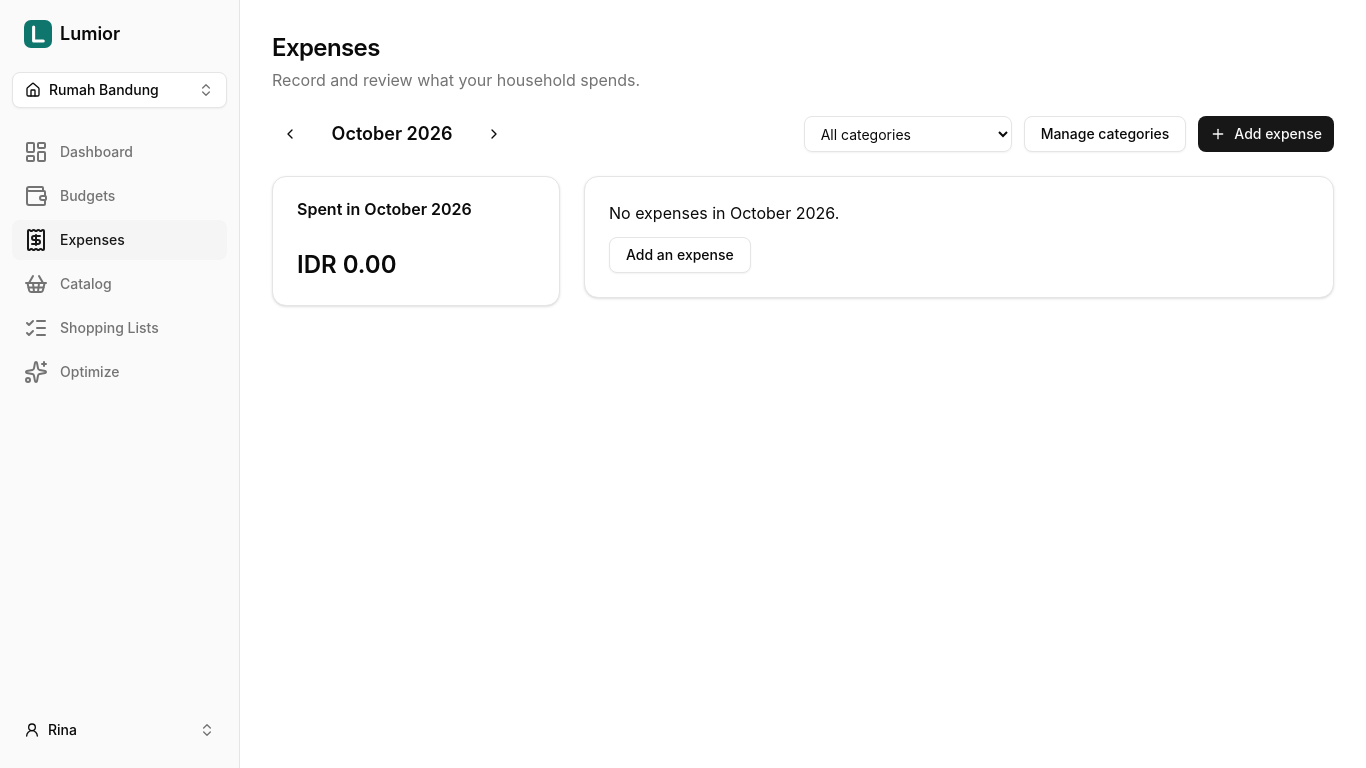
Scenario: adding an expense › a category archived meanwhile is reported on its field and the values are kept
This screenshot has width=1366, height=768.
Click the button "Add expense" at coordinates (1266, 134), box [1198,116,1334,152]
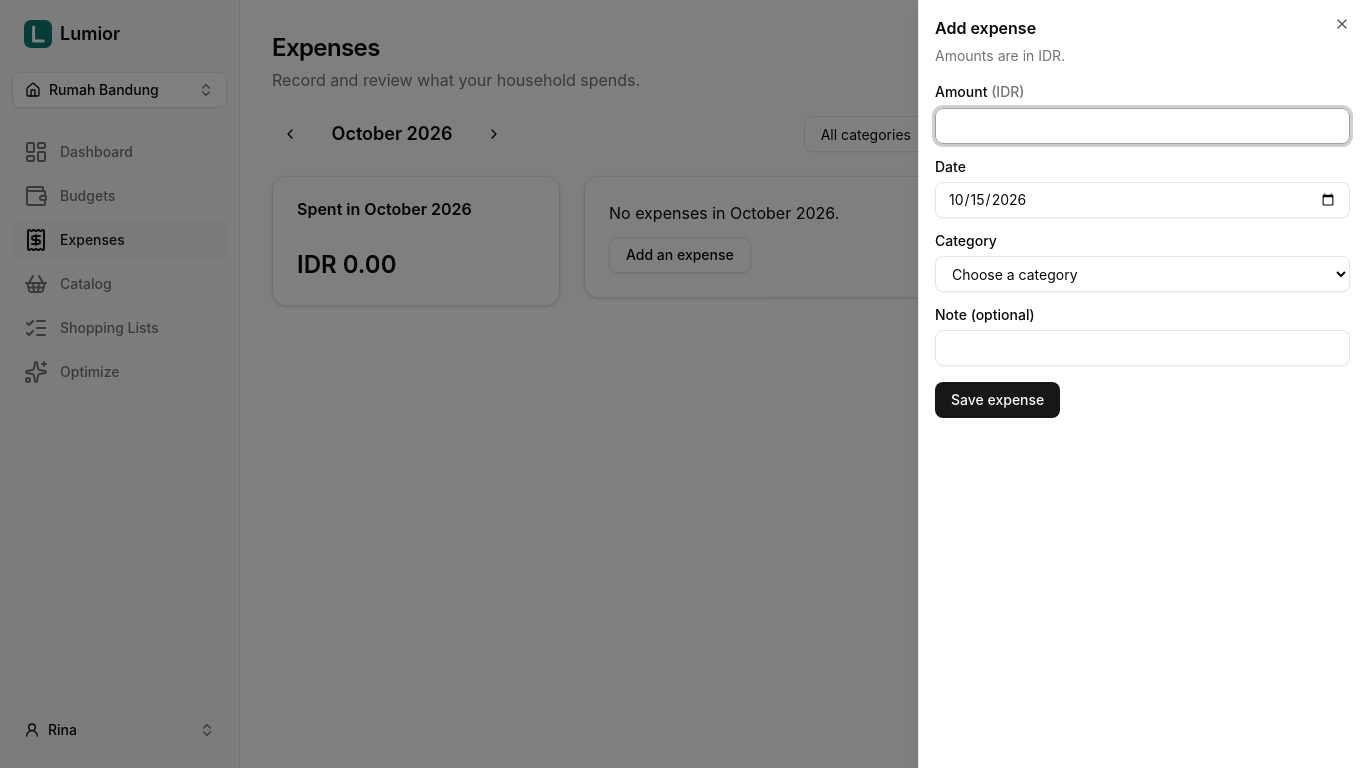
Type "30000" into the field labelled "Amount (IDR)" at coordinates (1142, 126), box [935,108,1350,144]
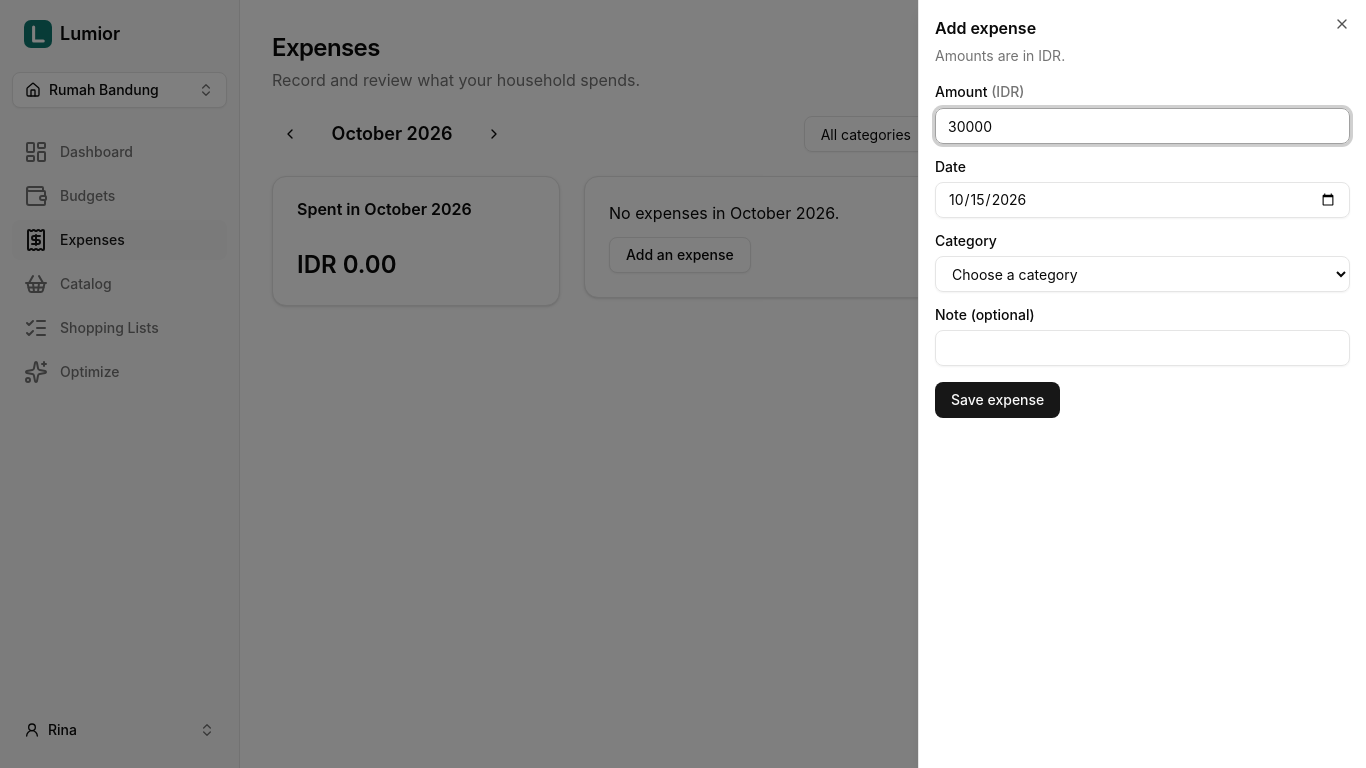
Select "Education" in the dropdown labelled "Category" at coordinates (1142, 274), box [935,256,1350,292]
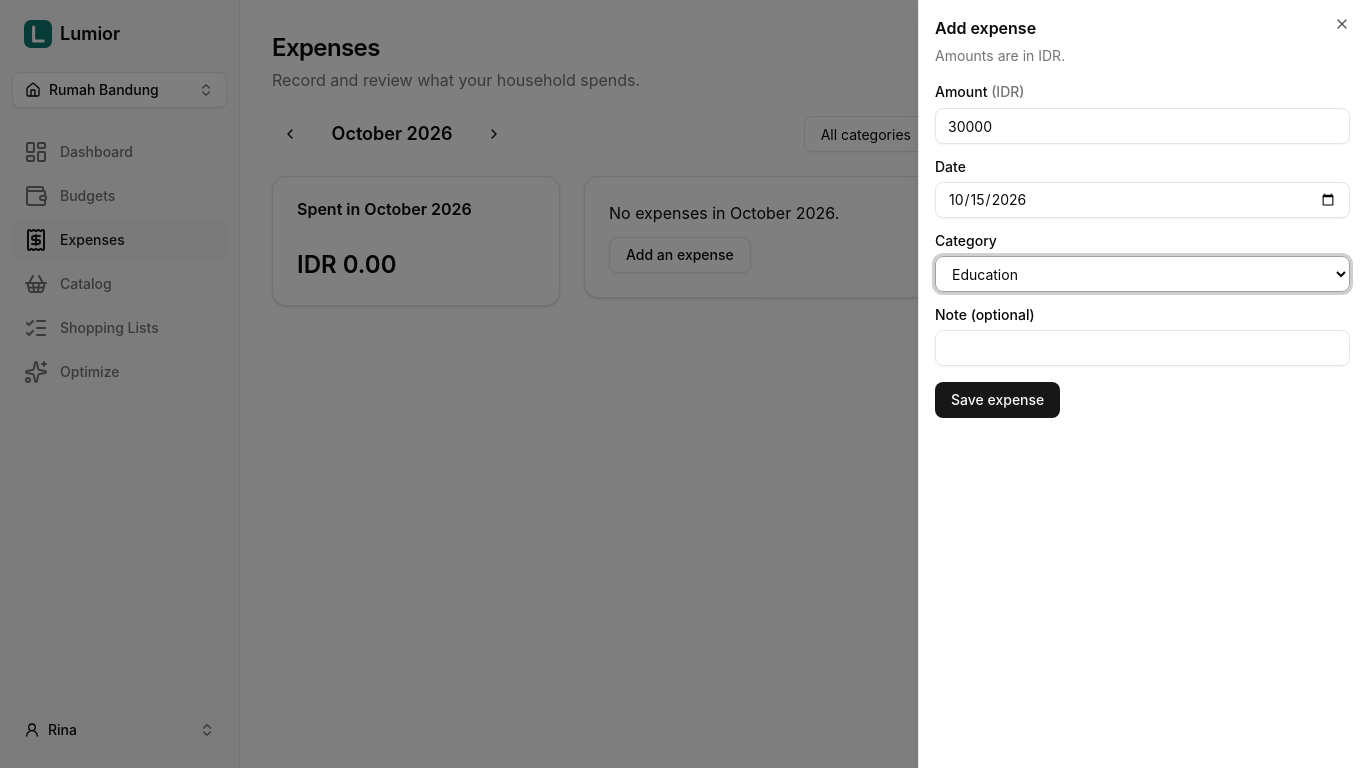
Type "Books" into the field labelled "Note (optional)" at coordinates (1142, 348), box [935,330,1350,366]
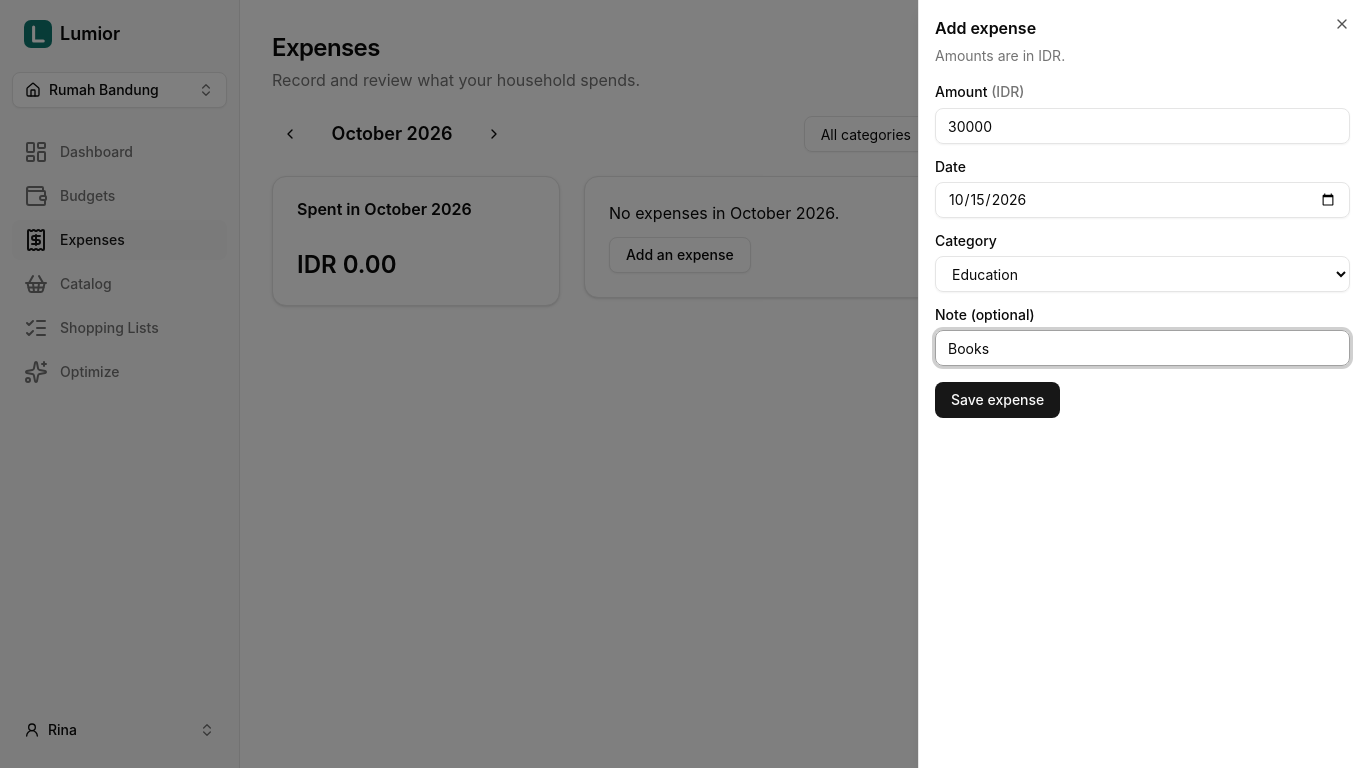
Click the button "Save expense" at coordinates (998, 400), box [935,382,1060,418]
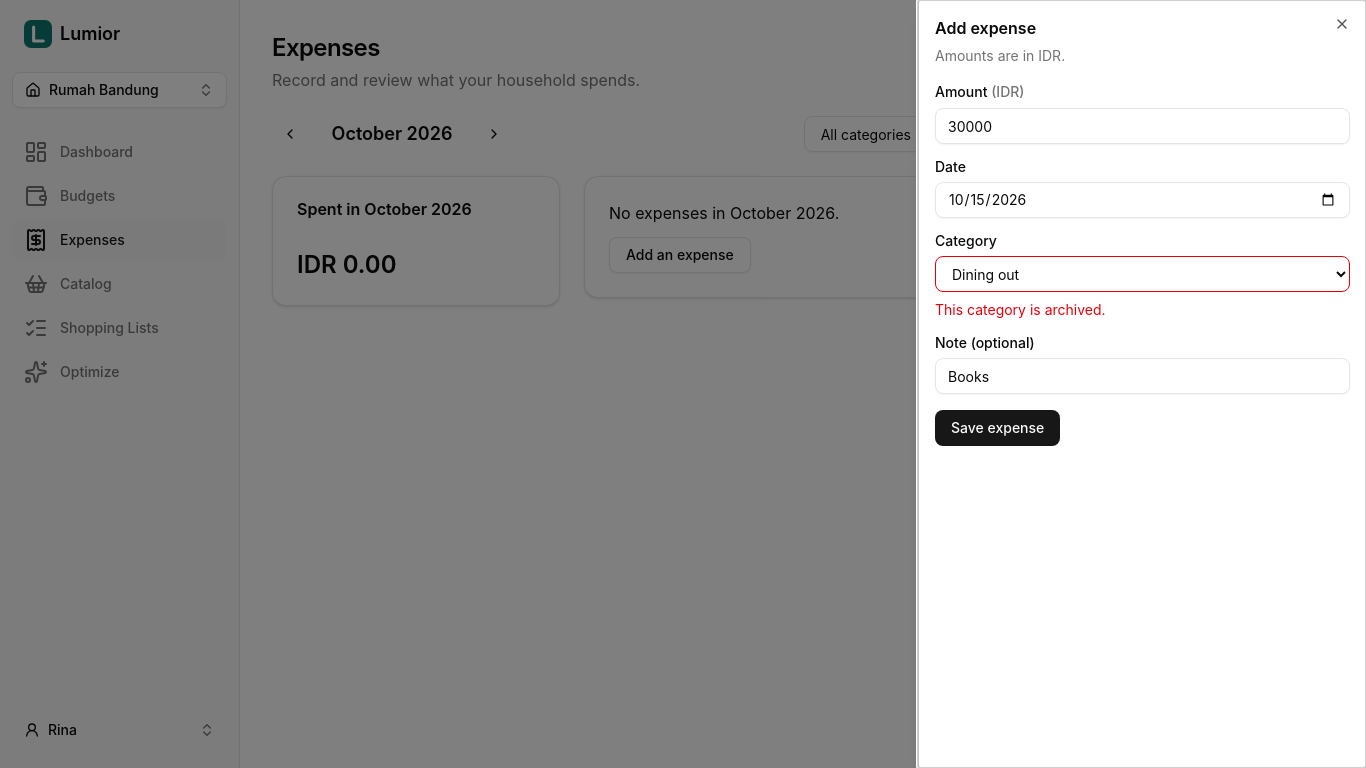
Expected: the option "Education" is not shown
Expected: the text "This category is archived." is shown, [935,301,1106,318]
